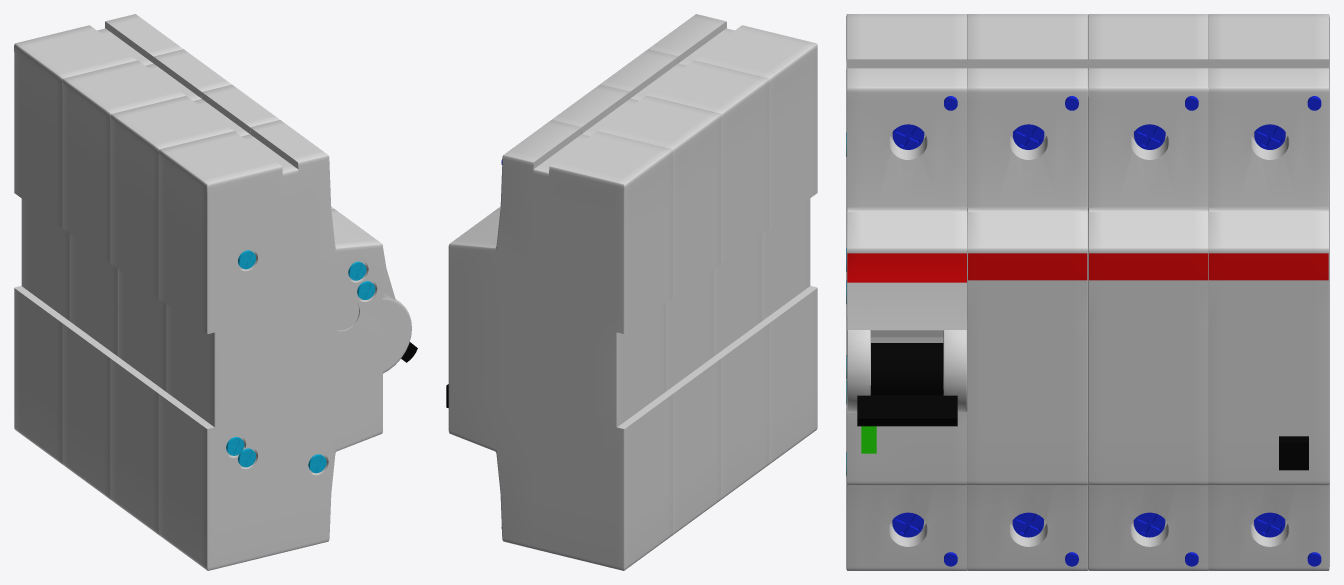
Rendered from _est.fbx.
3 renders of one model, left to right at view 1: azimuth 30°, elevation 25°; view 2: azimuth 150°, elevation 25°; view 3: azimuth 270°, elevation 25°, orthographic. The views are drawn at different scales.
Visible parts, largest first — view 1: FI-Schutzschalter.001; view 2: FI-Schutzschalter.001; view 3: FI-Schutzschalter.001, Cylinder.102, Cube.002, Cylinder.099, Cylinder.096, Cylinder.104, Cylinder.100, Cylinder.098, Cylinder.097, Cylinder.103, Cylinder.101.
Part boxes in pixels (x1,y1,x2,y2): FI-Schutzschalter.001: (14,14,411,570); FI-Schutzschalter.001: (448,14,817,570); FI-Schutzschalter.001: (846,14,1329,570); Cylinder.102: (857,343,957,426); Cube.002: (1279,436,1308,470); Cylinder.099: (1134,124,1165,149); Cylinder.096: (1254,124,1285,149); Cylinder.104: (892,124,924,149); Cylinder.100: (1013,124,1044,149); Cylinder.098: (1133,512,1165,537); Cylinder.097: (1254,512,1285,537); Cylinder.103: (892,512,923,537); Cylinder.101: (1012,512,1043,537).
Bounding box in the file's own units: 8.01 × 13.76 × 12.48.
